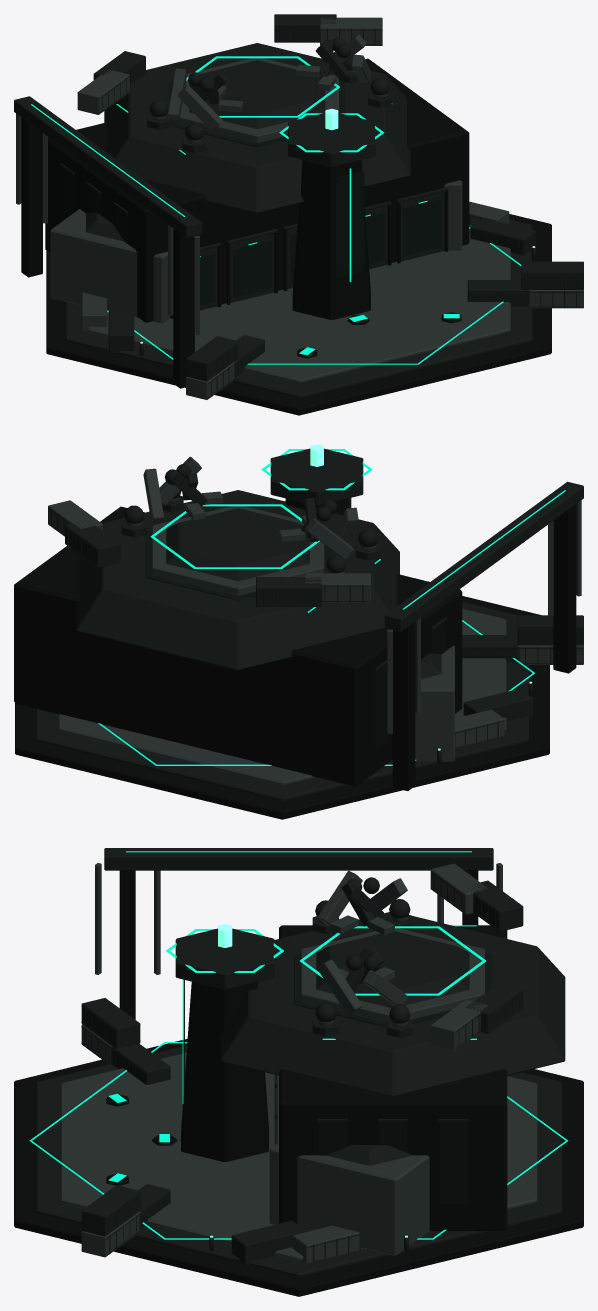
File: kliniu.glb
3 renders of one model, top to bottom at view 1: azimuth 30°, elevation 25°; view 2: azimuth 150°, elevation 25°; view 3: azimuth 270°, elevation 25°, orthographic. The views are drawn at different scales.
Visible parts, largest first — view 1: KLI_ServicePodium, KLI_TransferHallHexRoof, KLI_TransferHall, KLI_Foundation, KLI_AutomatedSorterCore, KLI_WestReceivingWing, KLI_LoadingDeck, KLI_DispatchHubTop, KLI_ContainerGantryBeam, KLI_SorterCap, KLI_GantrySupport_Rear, KLI_GantrySupport_Front (+37 smaller); view 2: KLI_TransferHall, KLI_TransferHallHexRoof, KLI_Foundation, KLI_LoadingDeck, KLI_DispatchHubTop, KLI_ServicePodium, KLI_ContainerGantryBeam, KLI_SorterCap, KLI_GantrySupport_Front, KLI_GantrySupport_Rear, KLI_WestReceivingWing, KLI_DispatchHubBase (+20 smaller); view 3: KLI_TransferHallHexRoof, KLI_ServicePodium, KLI_TransferHall, KLI_Foundation, KLI_LoadingDeck, KLI_EastReceivingWing, KLI_AutomatedSorterCore, KLI_ContainerGantryBeam, KLI_DispatchHubTop, KLI_SorterCap, KLI_DispatchHubBase, KLI_GantrySupport_Front (+26 smaller).
Boxes of the visible parts, <box> form: KLI_ServicePodium: <box>87,225,510,383</box>; KLI_TransferHallHexRoof: <box>104,43,410,213</box>; KLI_TransferHall: <box>45,58,469,322</box>; KLI_Foundation: <box>46,214,551,415</box>; KLI_AutomatedSorterCore: <box>292,160,370,319</box>; KLI_WestReceivingWing: <box>50,209,170,323</box>; KLI_LoadingDeck: <box>66,219,532,398</box>; KLI_DispatchHubTop: <box>189,60,325,128</box>; KLI_ContainerGantryBeam: <box>14,96,202,237</box>; KLI_SorterCap: <box>288,113,375,166</box>; KLI_GantrySupport_Rear: <box>21,117,42,277</box>; KLI_GantrySupport_Front: <box>173,229,194,388</box>; KLI_TransferHall: <box>14,506,462,786</box>; KLI_TransferHallHexRoof: <box>76,490,399,670</box>; KLI_Foundation: <box>15,596,549,819</box>; KLI_LoadingDeck: <box>35,602,528,801</box>; KLI_DispatchHubTop: <box>166,508,309,581</box>; KLI_ServicePodium: <box>58,608,506,785</box>; KLI_ContainerGantryBeam: <box>384,481,583,631</box>; KLI_SorterCap: <box>270,448,363,505</box>; KLI_GantrySupport_Front: <box>553,504,576,673</box>; KLI_GantrySupport_Rear: <box>392,622,415,790</box>; KLI_WestReceivingWing: <box>390,645,454,761</box>; KLI_DispatchHubBase: <box>152,506,324,595</box>; KLI_TransferHallHexRoof: <box>220,912,565,1095</box>; KLI_ServicePodium: <box>60,1052,537,1260</box>; KLI_TransferHall: <box>279,925,507,1230</box>; KLI_Foundation: <box>14,1039,583,1296</box>; KLI_LoadingDeck: <box>36,1045,561,1277</box>; KLI_EastReceivingWing: <box>269,1142,430,1256</box>; KLI_AutomatedSorterCore: <box>181,981,268,1161</box>; KLI_ContainerGantryBeam: <box>104,848,493,870</box>; KLI_DispatchHubTop: <box>316,931,469,1007</box>; KLI_SorterCap: <box>175,928,274,989</box>; KLI_DispatchHubBase: <box>301,928,484,1022</box>; KLI_GantrySupport_Front: <box>119,870,135,1019</box>.
Size of the model in its own units: 97.8 by 39.6 by 84.87.
